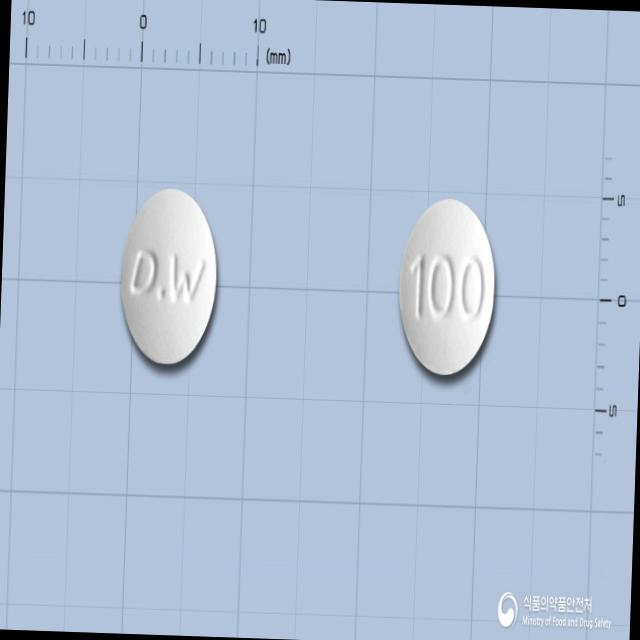Daewoong Levofloxacin: (116, 182, 220, 368), (394, 195, 498, 376)
